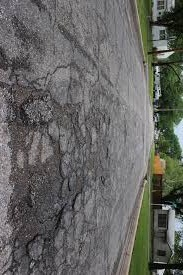pothole: (4, 93, 65, 272)
